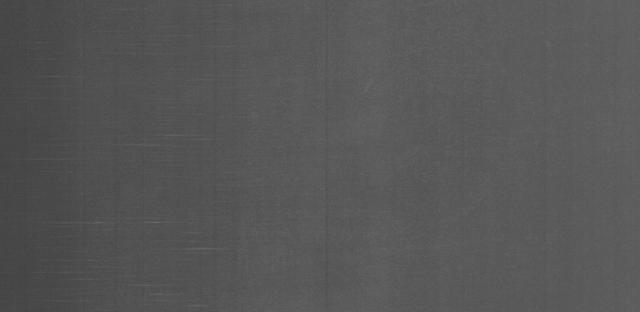waist_folding: (80, 66, 538, 277)
